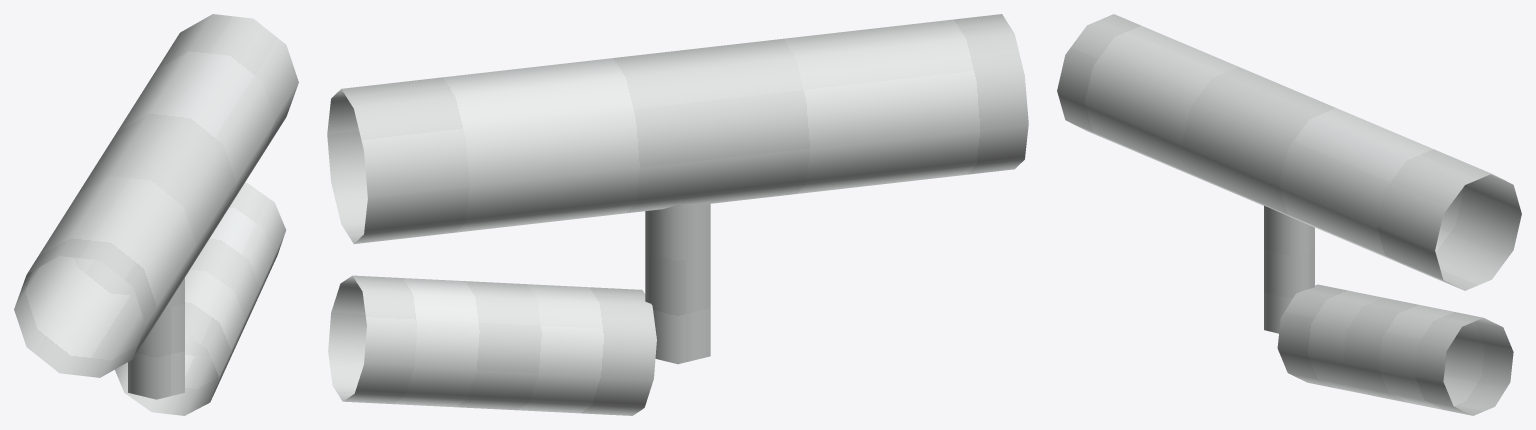
The model's file is trusssignalarm_diagonal5_c5.obj.
The picture shows the model from 3 angles, left to right: view 1: azimuth 30°, elevation 25°; view 2: azimuth 150°, elevation 25°; view 3: azimuth 270°, elevation 25°; orthographic projection. The views are drawn at different scales.
Visible parts, largest first — view 1: trusssignalarm_diagonal5_c5; view 2: trusssignalarm_diagonal5_c5; view 3: trusssignalarm_diagonal5_c5.
Boxes of the visible parts, box(x1,y1,x2,y2) form: trusssignalarm_diagonal5_c5: box(14, 14, 298, 415); trusssignalarm_diagonal5_c5: box(327, 14, 1028, 415); trusssignalarm_diagonal5_c5: box(1057, 14, 1521, 415).
Size of the model in its own units: 1.23 by 0.7775 by 1.23.
